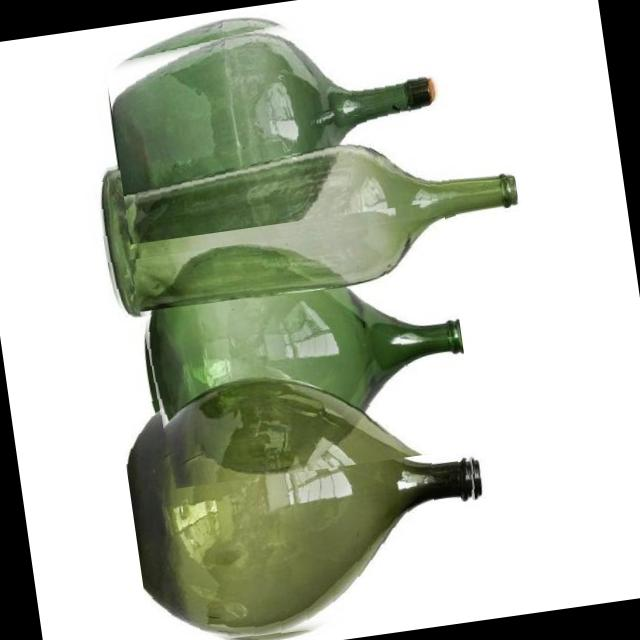Glass: (115, 347, 500, 640), (128, 216, 476, 493), (90, 109, 526, 324), (100, 0, 453, 244)
